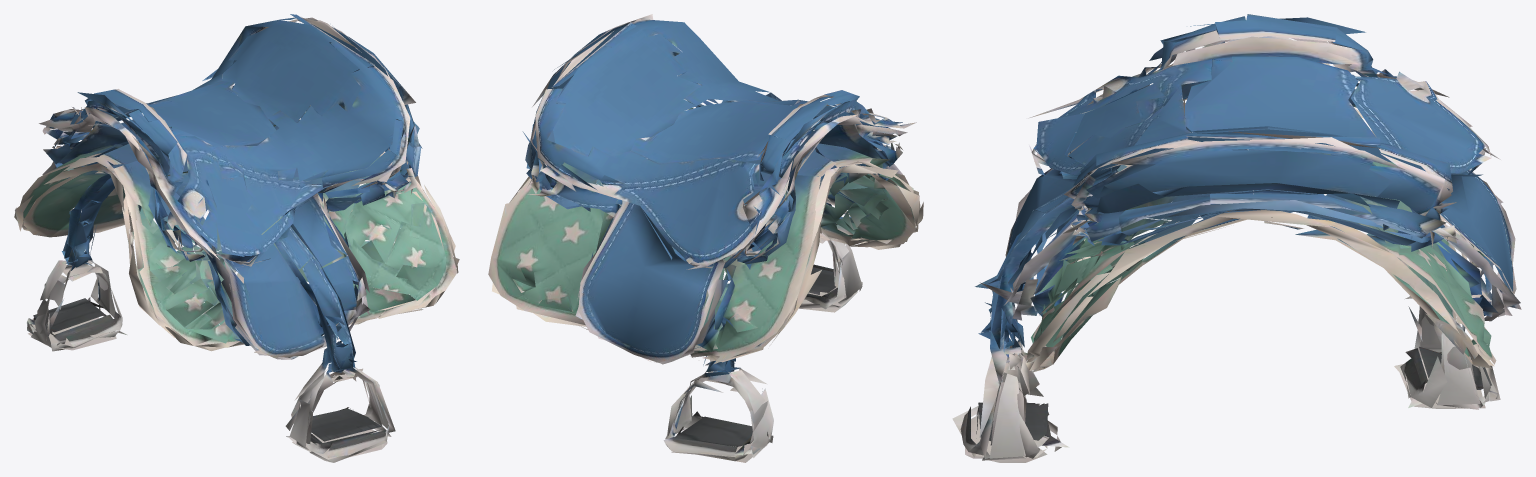
3 renders of one model, left to right at view 1: azimuth 30°, elevation 25°; view 2: azimuth 150°, elevation 25°; view 3: azimuth 270°, elevation 25°, orthographic. The views are drawn at different scales.
Visible parts, largest first — view 1: saddle-blue; view 2: saddle-blue; view 3: saddle-blue.
Part boxes in pixels (x1,y1,x2,y2): saddle-blue: [14, 14, 459, 462]; saddle-blue: [488, 14, 923, 462]; saddle-blue: [952, 14, 1521, 462].
Bounding box in the file's own units: 0.3127 × 0.3065 × 0.4214.
1 material, 1 textured.
